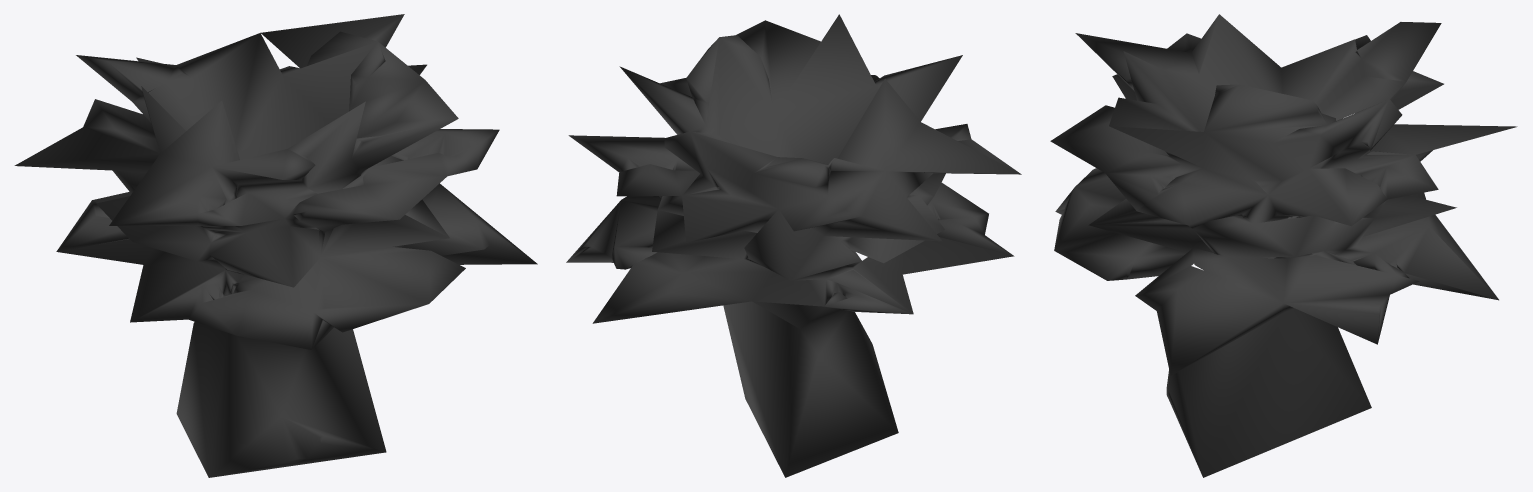
Rendered from tree_cycad.glb.
The picture shows the model from 3 angles, left to right: view 1: azimuth 30°, elevation 25°; view 2: azimuth 150°, elevation 25°; view 3: azimuth 270°, elevation 25°; orthographic projection. The views are drawn at different scales.
Parts seen in each view (by area): view 1: geometry_0; view 2: geometry_0; view 3: geometry_0.
Part boxes in pixels (<box>): geometry_0: <box>14,14,537,477</box>; geometry_0: <box>566,14,1021,477</box>; geometry_0: <box>1050,14,1517,477</box>.
Size of the model in its own units: 1 by 0.8862 by 0.9454.
1 material, 1 textured.
